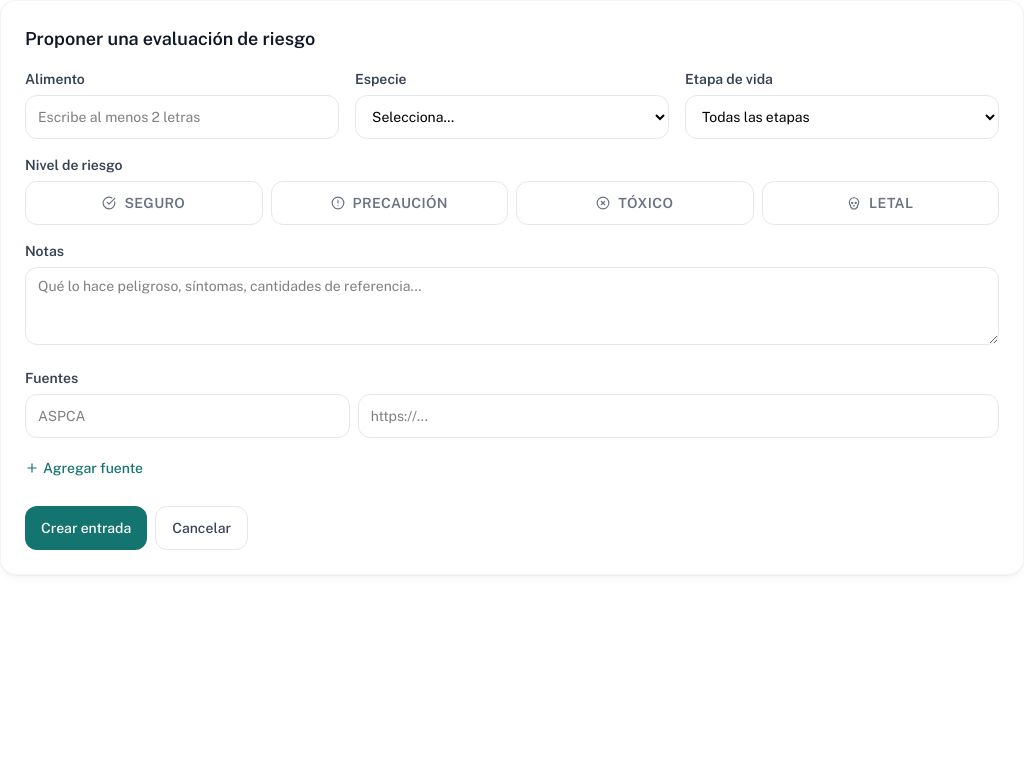
it: ProposeEntryForm › selects the suggestion with Enter
In the field labelled "Alimento": point(182, 117) [25,95,339,139], type "cho"
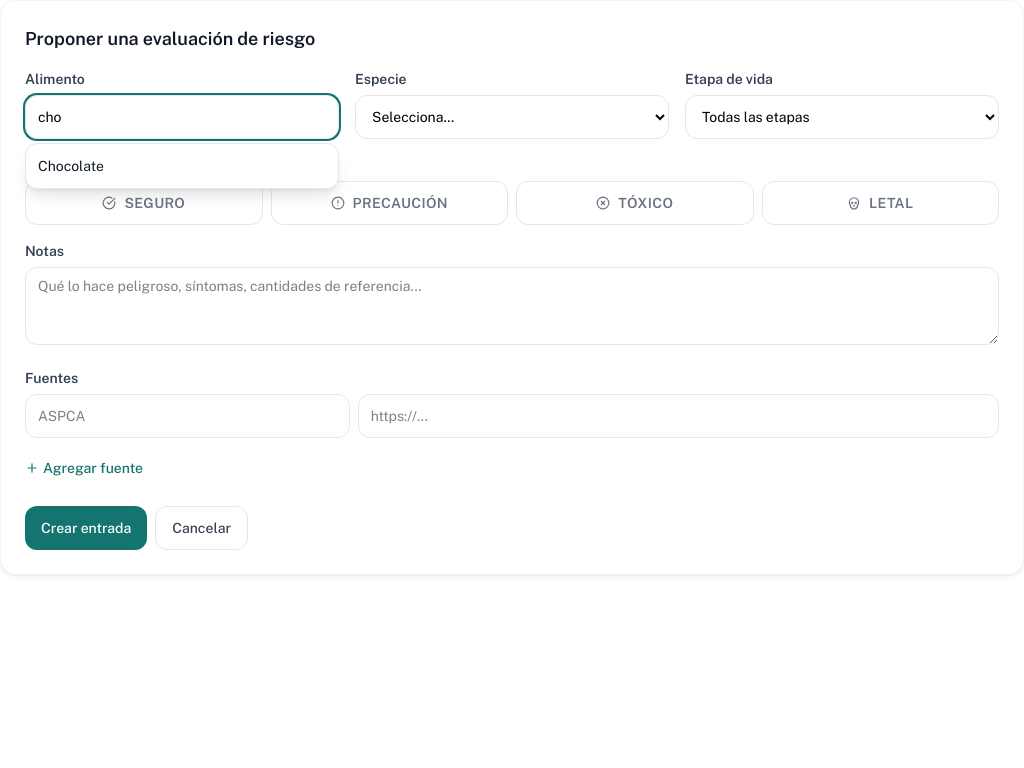
Check: the button "Chocolate" is shown, box [26,144,338,188]
Press Enter
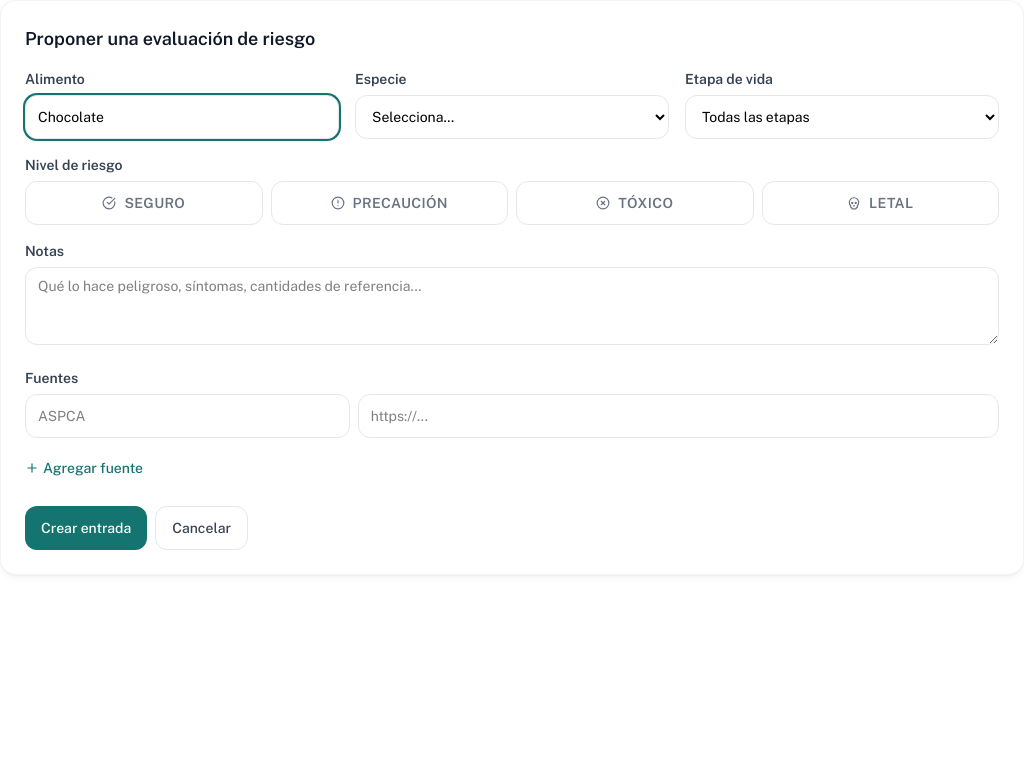
Check: the field labelled "Alimento" holds "Chocolate", box [25,95,339,139]
